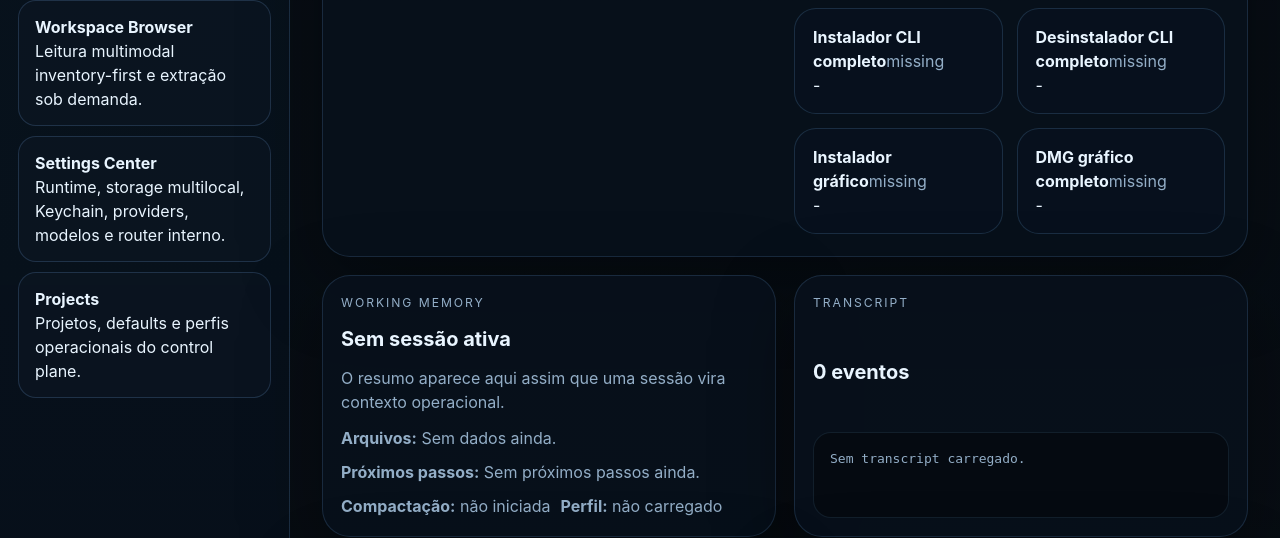
Test: App › mostra o Settings Center com storage, segredos e router
(page scrolled)
Click the button "Settings Center" at (144, 199), box [18,136,271,262]
(page scrolled)
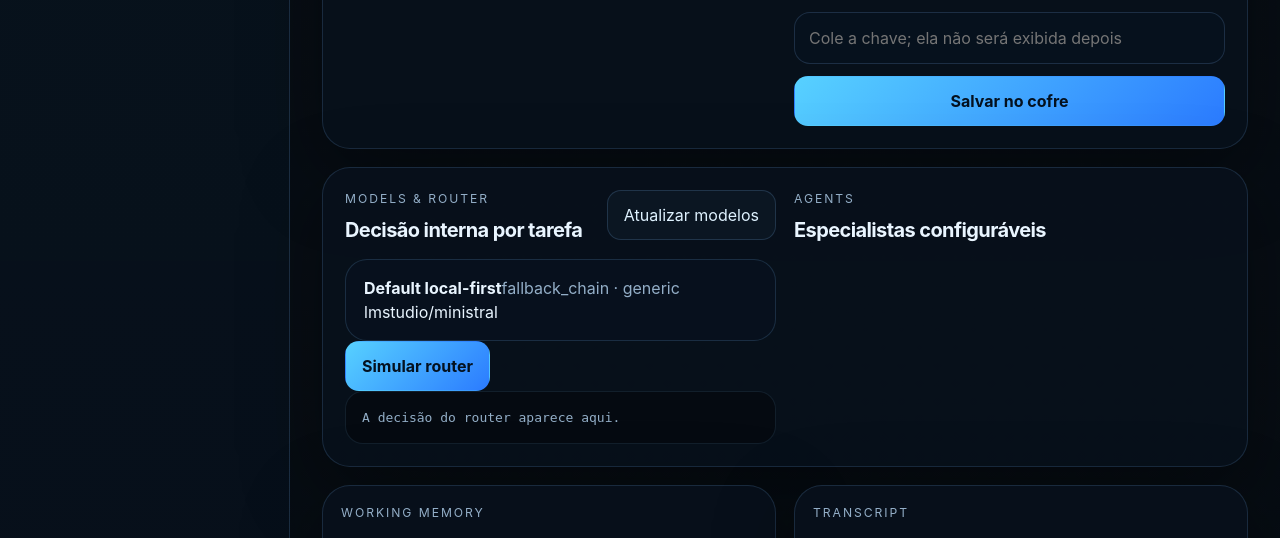
Check: the text "Models & Router" is shown, box [345,191,489,206]
